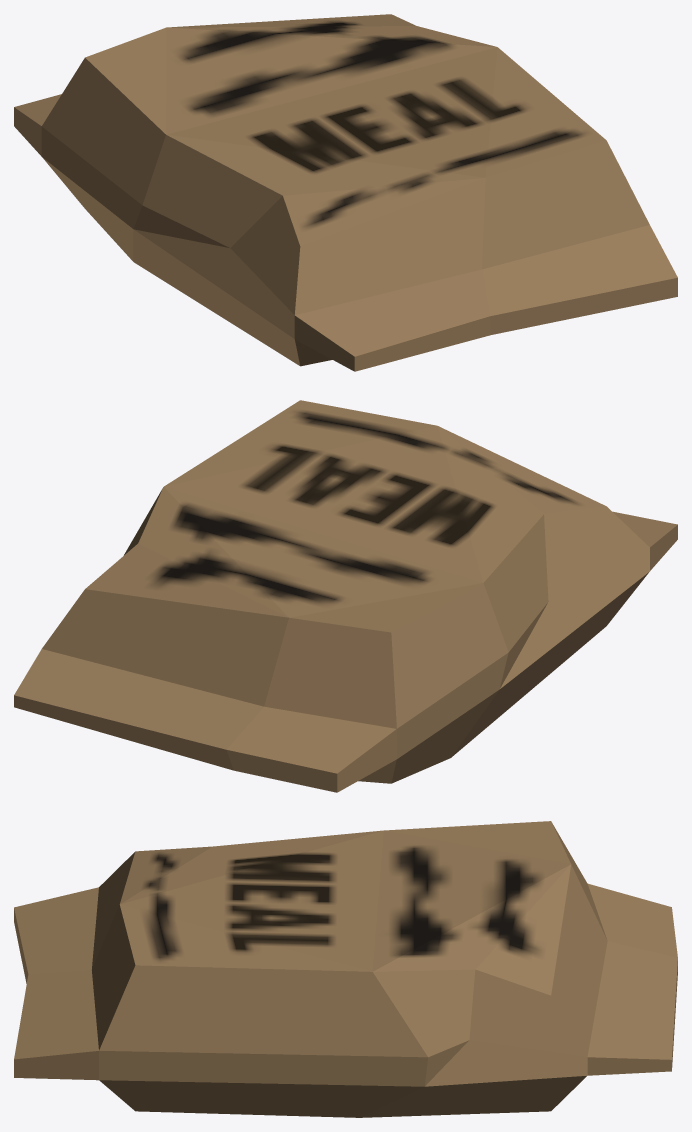
File: SM_Item_Meal_Pack_01.fbx
3 renders of one model, top to bottom at view 1: azimuth 30°, elevation 25°; view 2: azimuth 150°, elevation 25°; view 3: azimuth 270°, elevation 25°, orthographic. The views are drawn at different scales.
Parts seen in each view (by area): view 1: SM_Item_Meal_Pack_01; view 2: SM_Item_Meal_Pack_01; view 3: SM_Item_Meal_Pack_01.
Part boxes in pixels (bbox=[...]): SM_Item_Meal_Pack_01: bbox=[14, 14, 677, 371]; SM_Item_Meal_Pack_01: bbox=[14, 400, 677, 792]; SM_Item_Meal_Pack_01: bbox=[14, 821, 677, 1117].
Size of the model in its own units: 31.87 by 13.31 by 50.69.
